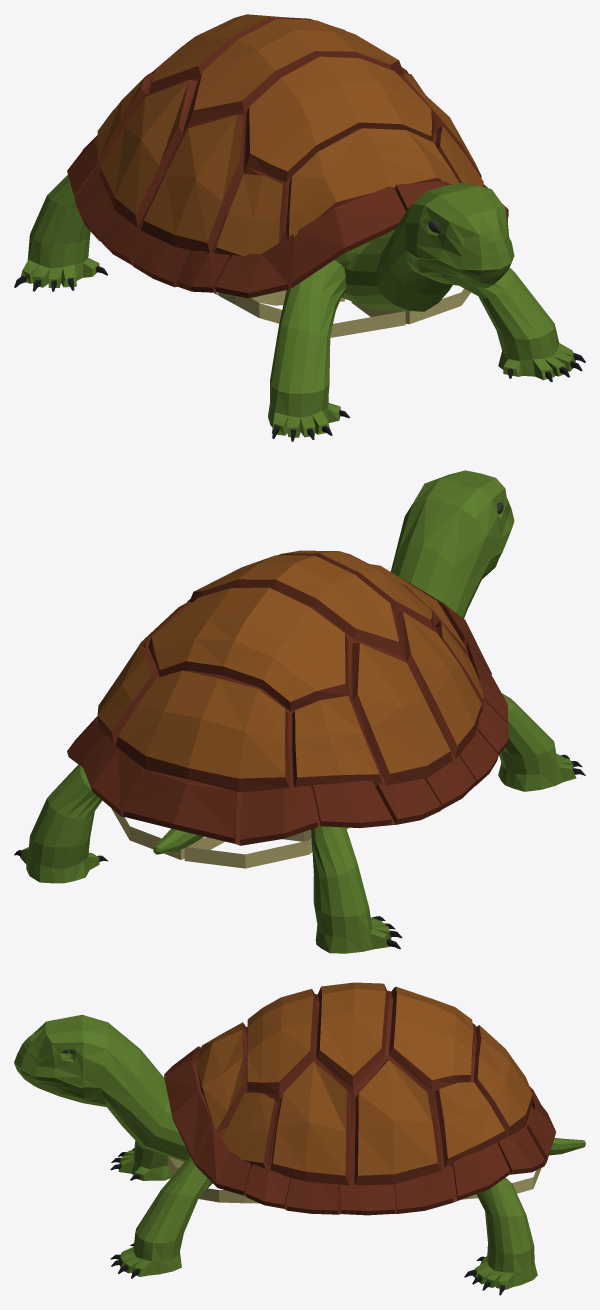
The model's file is turtle.glb.
The picture shows the model from 3 angles, top to bottom: view 1: azimuth 30°, elevation 25°; view 2: azimuth 150°, elevation 25°; view 3: azimuth 270°, elevation 25°; orthographic projection. The views are drawn at different scales.
Visible parts, largest first — view 1: Node; view 2: Node; view 3: Node.
Part boxes in pixels (bbox=[...]): Node: bbox=[14, 14, 585, 441]; Node: bbox=[14, 470, 585, 953]; Node: bbox=[14, 982, 585, 1295].
Bounding box in the file's own units: 14.02 × 9.54 × 21.62.
1 material, 1 textured.
